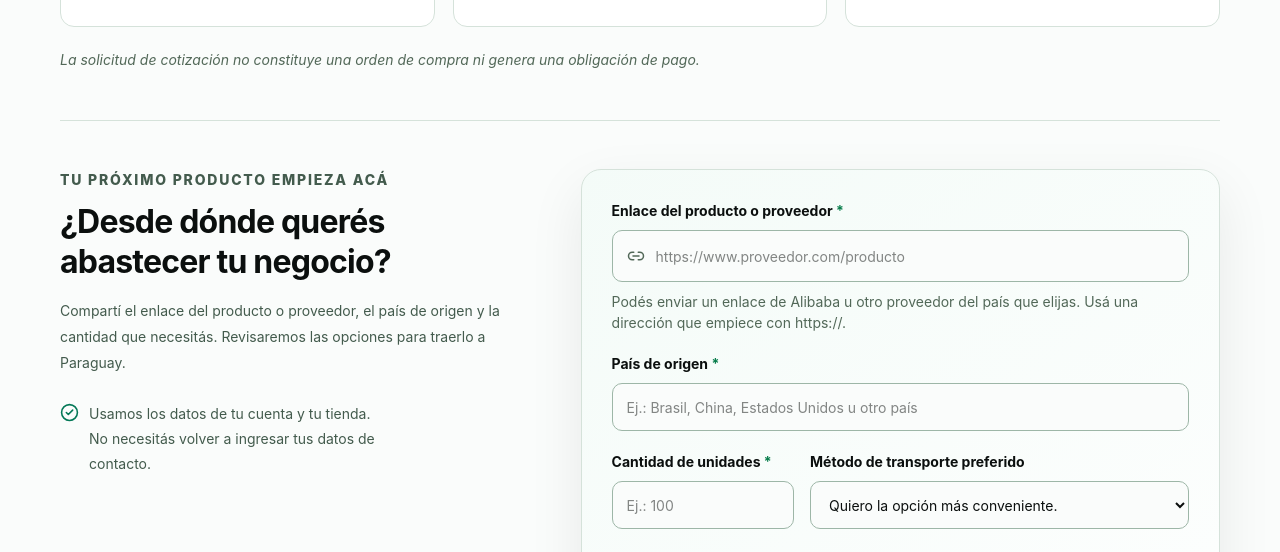
Scenario: conserva los datos y la misma clave al reintentar una respuesta perdida
(page scrolled)
Step 1. Type "https://www.alibaba.com/product-detail/Test_123.html" into the field labelled "Enlace del producto o proveedor *" → (900, 256), box [612,230,1189,282]
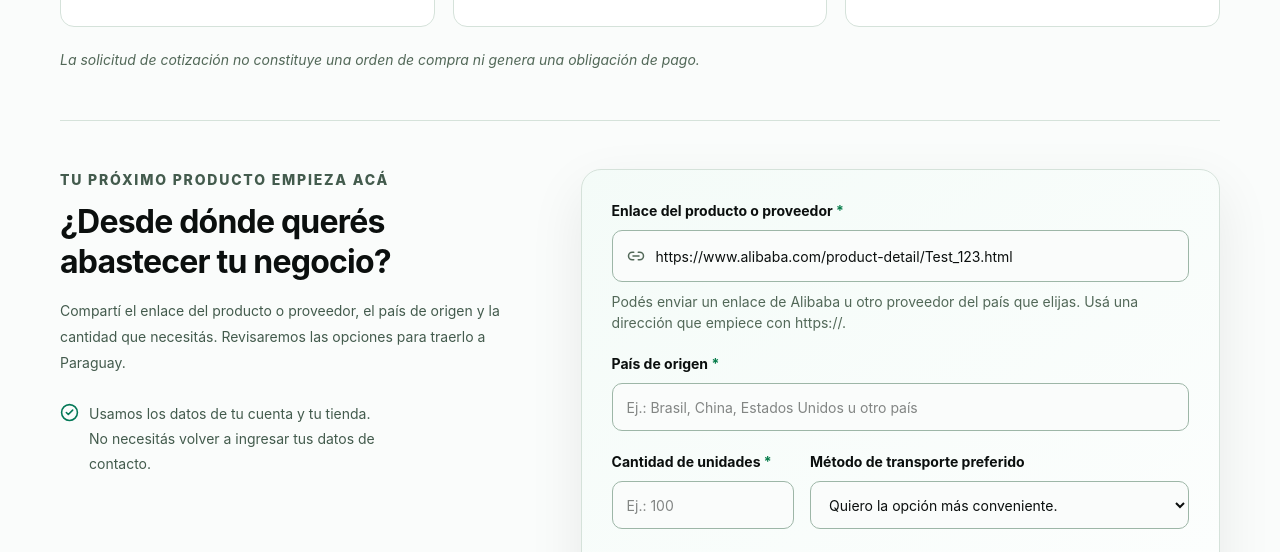
Step 2. Type "100" into the number field labelled "Cantidad de unidades *" → (703, 505), box [612,481,794,529]
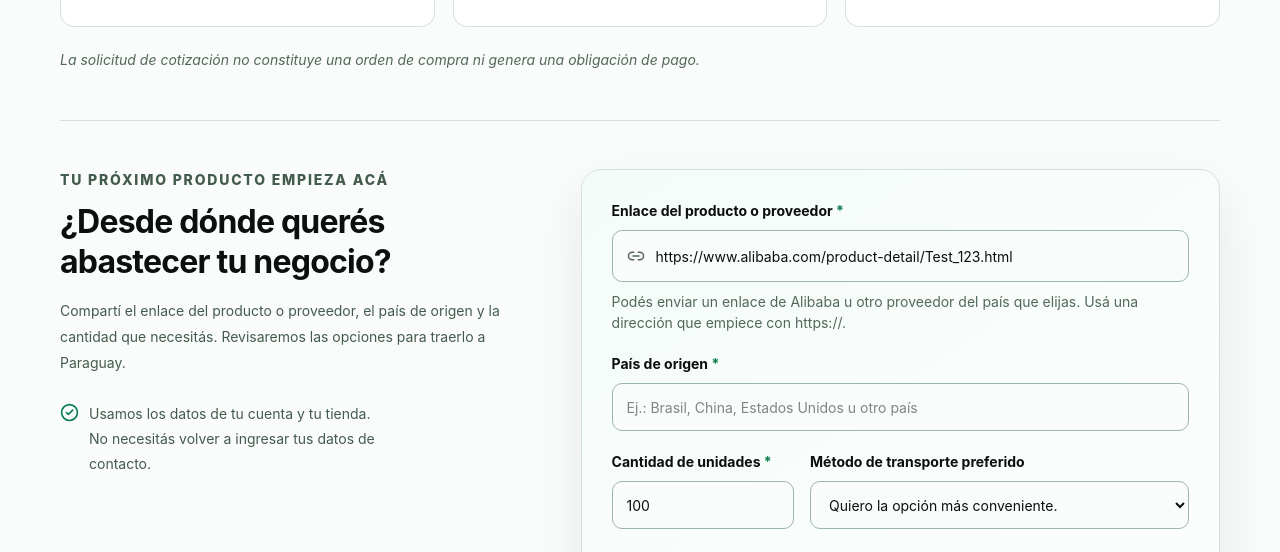
Step 3. Type "Brasil" into the field labelled "País de origen *" → (900, 407), box [612,383,1189,431]
(page scrolled)
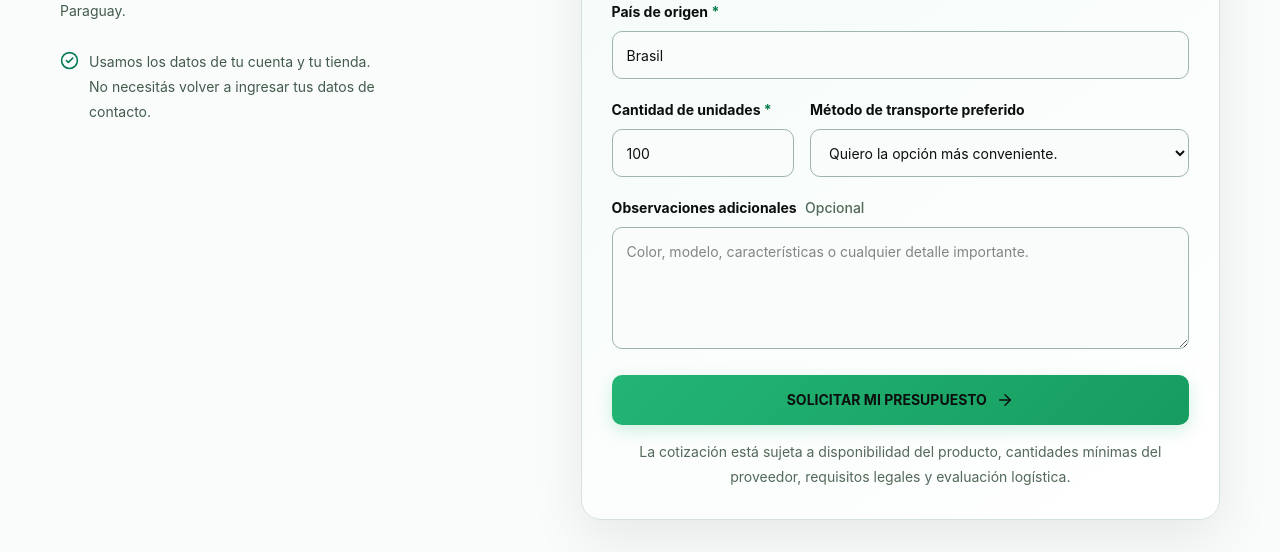
Step 4. Click the button "SOLICITAR MI PRESUPUESTO" → (900, 400), box [612,374,1189,424]
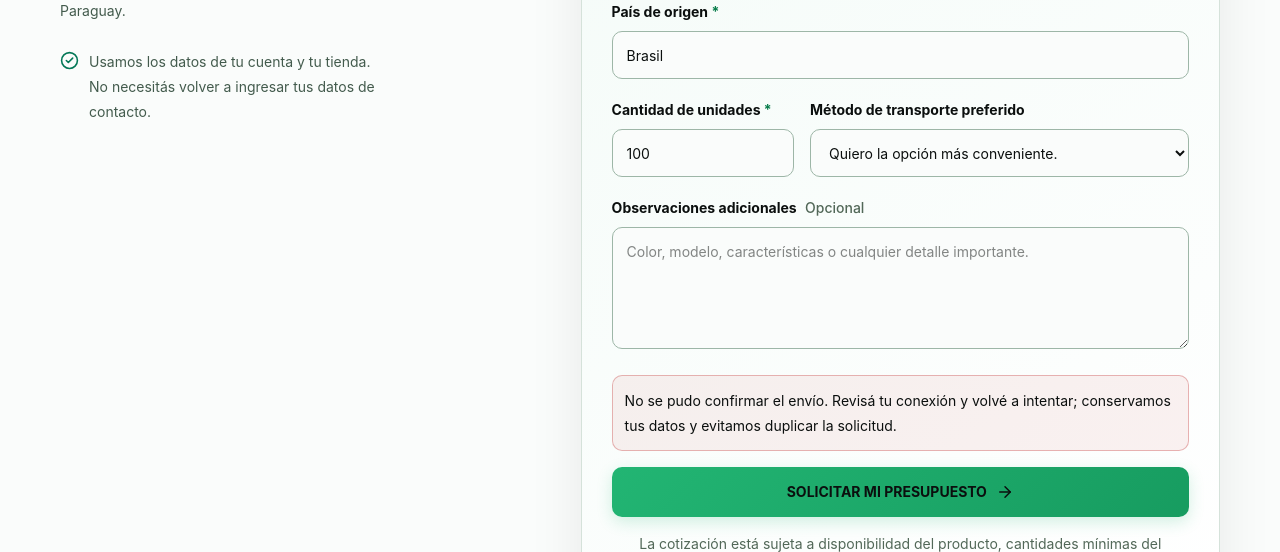
Check: the message is shown, box [612,374,1189,451]
Step 5. Click the button "SOLICITAR MI PRESUPUESTO" → (900, 492), box [612,467,1189,517]
(page scrolled)
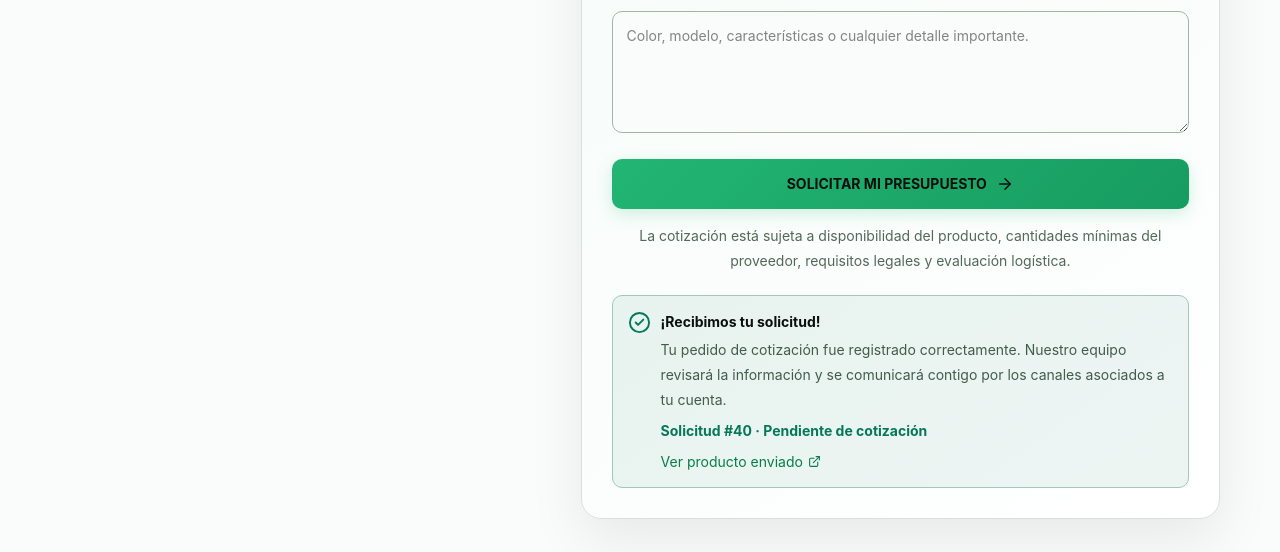
Check: the message is shown, box [612,295,1189,488]
